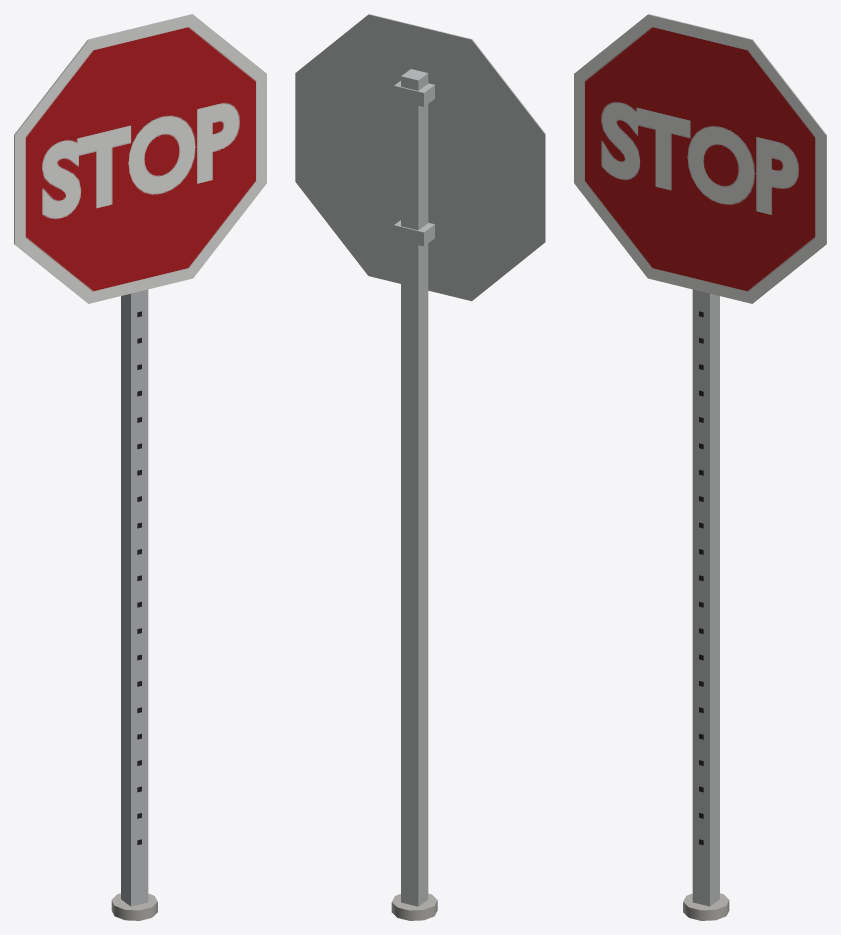
Rendered from stop_sign.glb.
3 renders of one model, left to right at view 1: azimuth 30°, elevation 25°; view 2: azimuth 150°, elevation 25°; view 3: azimuth 330°, elevation 25°, orthographic.
Visible parts, largest first — view 1: stop_sign_body; view 2: stop_sign_body; view 3: stop_sign_body.
Part boxes in pixels (x1,y1,x2,y2): stop_sign_body: (14, 14, 266, 920); stop_sign_body: (295, 14, 545, 920); stop_sign_body: (574, 14, 826, 920).
Size of the model in its own units: 0.0375 by 0.1262 by 0.00571.
Materials: 2 (2 with a texture image).
